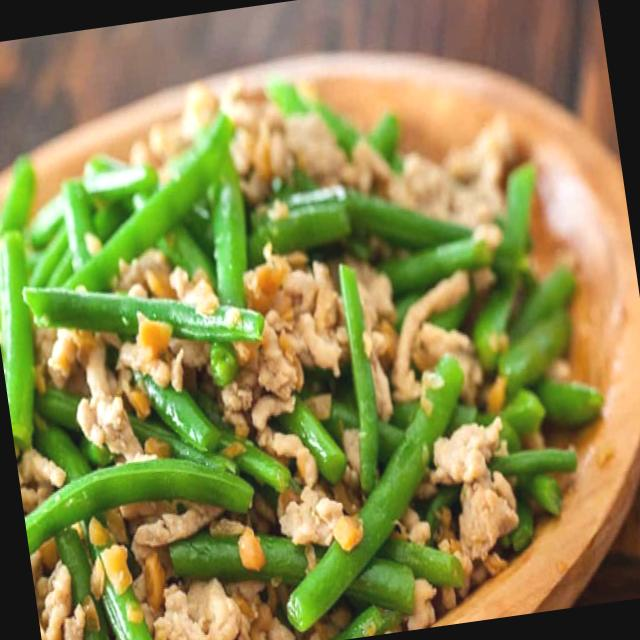dau que: (0, 83, 612, 640)
